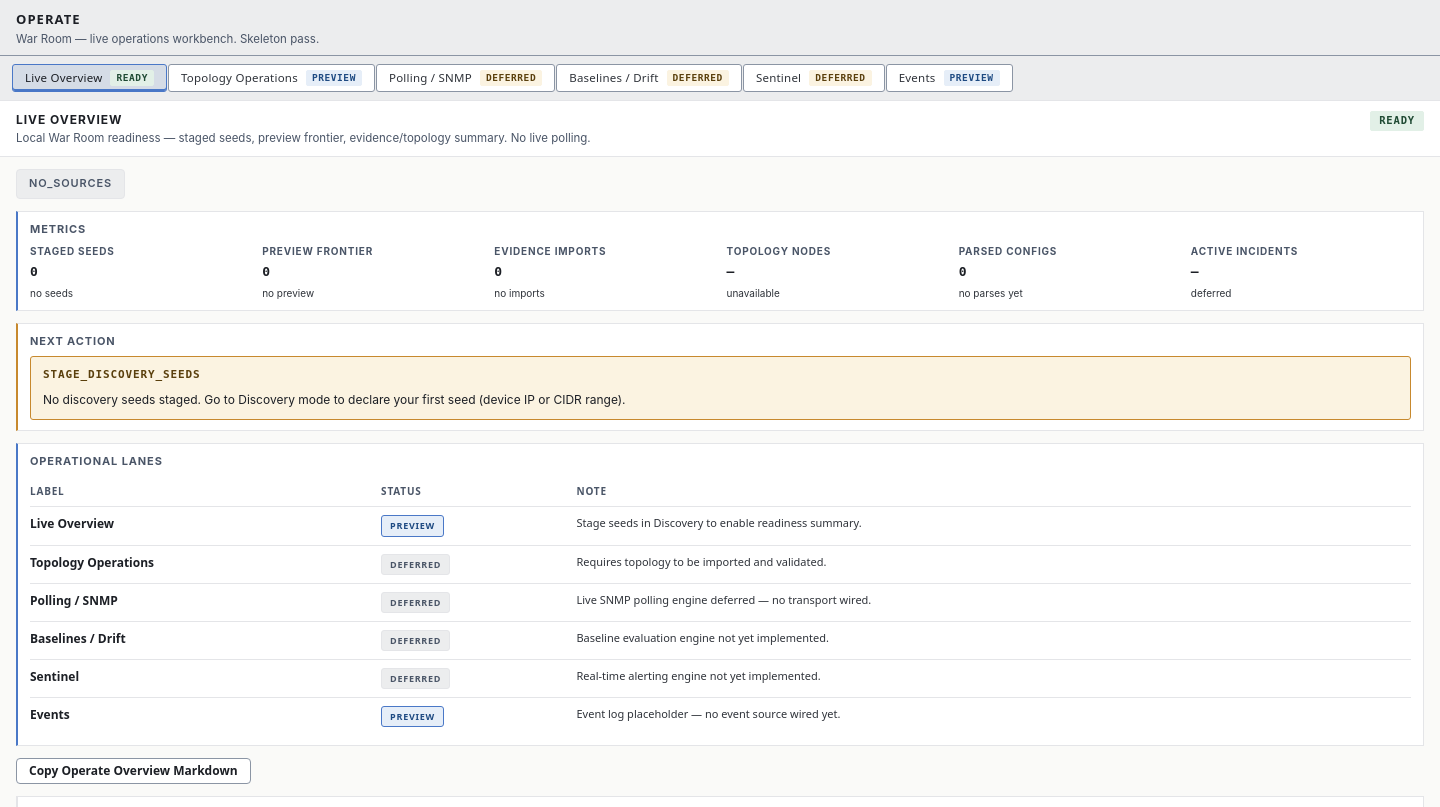
it: OperateMode workbench › baselines_drift shows 'Drift line per device'
Click the tab with test id "mwb-tool-baselines_drift" at [649, 78], box [556, 64, 742, 92]
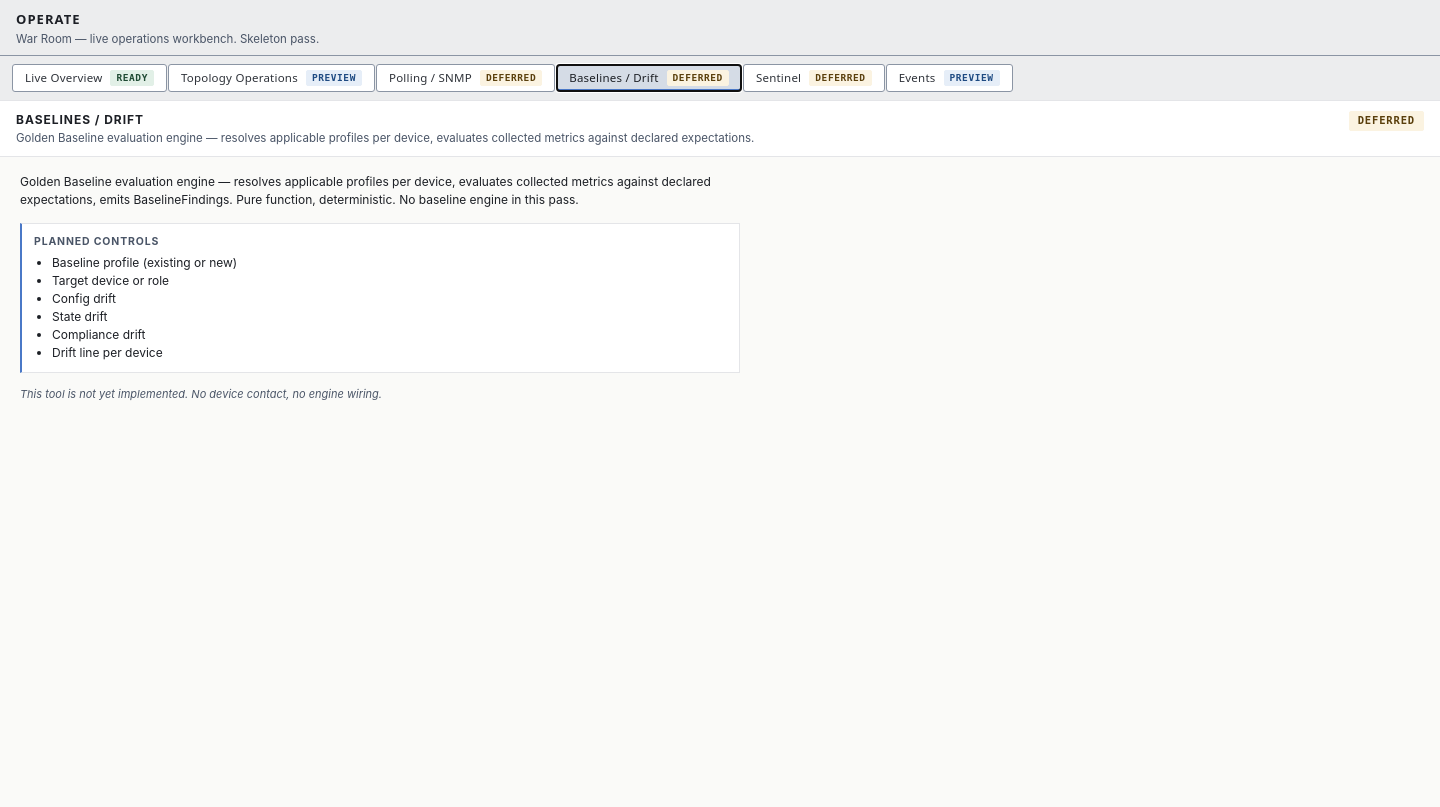
Check: the element with test id "mode-workbench-body" shows "Drift line per device", box [52, 345, 163, 360]
